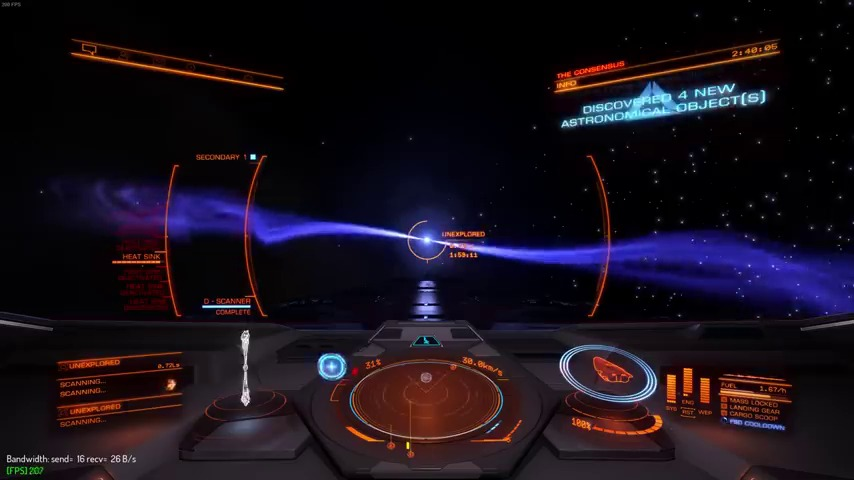jetcone: (458, 223, 852, 311)
